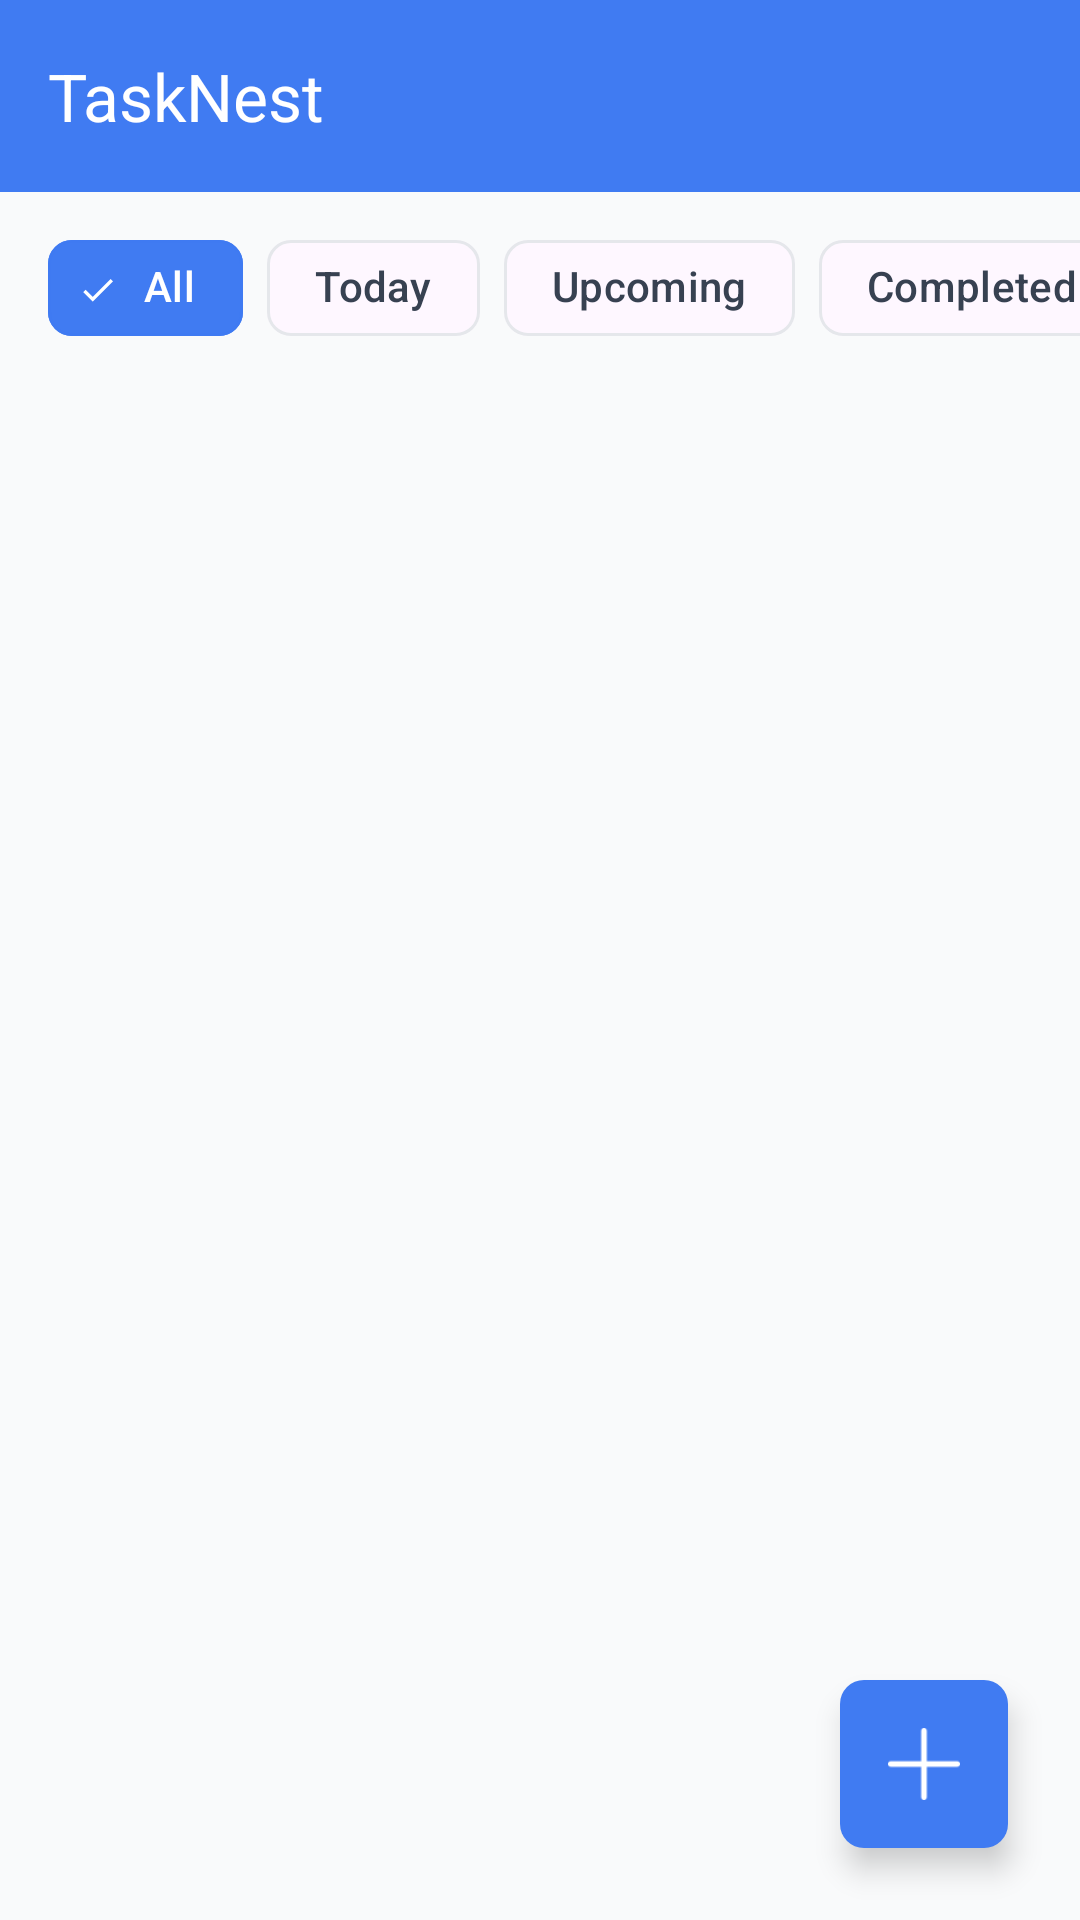

Screen size 1080px x 1920px. Icon name, then its center in pixels as point (x, y):
Add new task: point (924, 1764)
